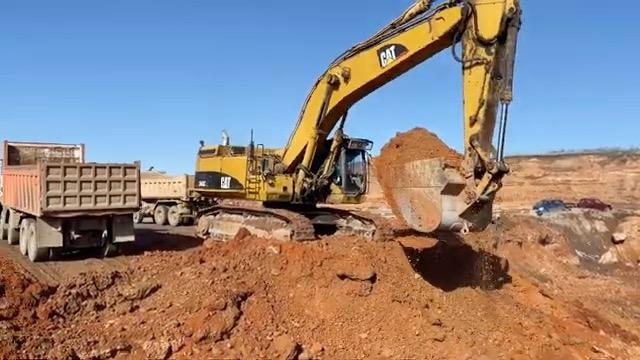excavator: (191, 0, 524, 213)
